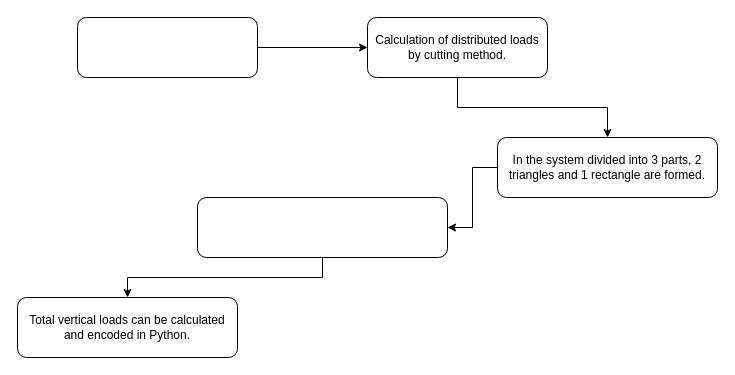
Image size: 735x375. Some labels were removed from this diagram. The centre of each missing label's shape, as x and y in pixels:
"The vertical and horizontal loads of the system are marked." goes at point 167,47.
"Vertical loads should be found according to their center of gravity." goes at point 322,227.
